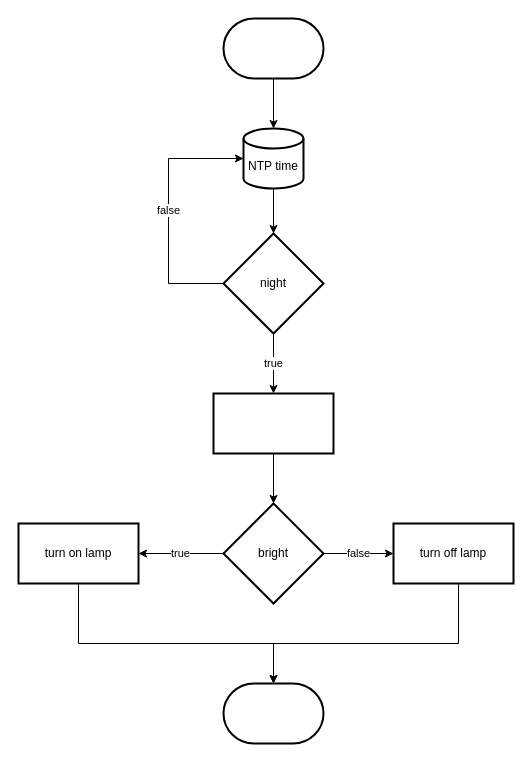
The diagram is 531 pixels wide and 761 high, and some of its shapes have lost their labels. The box of each missing label's shape, as (x1, y1, x2, y2) in pixels:
end: (222, 682, 324, 744)
LDR sensor: (212, 392, 334, 454)
start: (222, 17, 324, 79)
